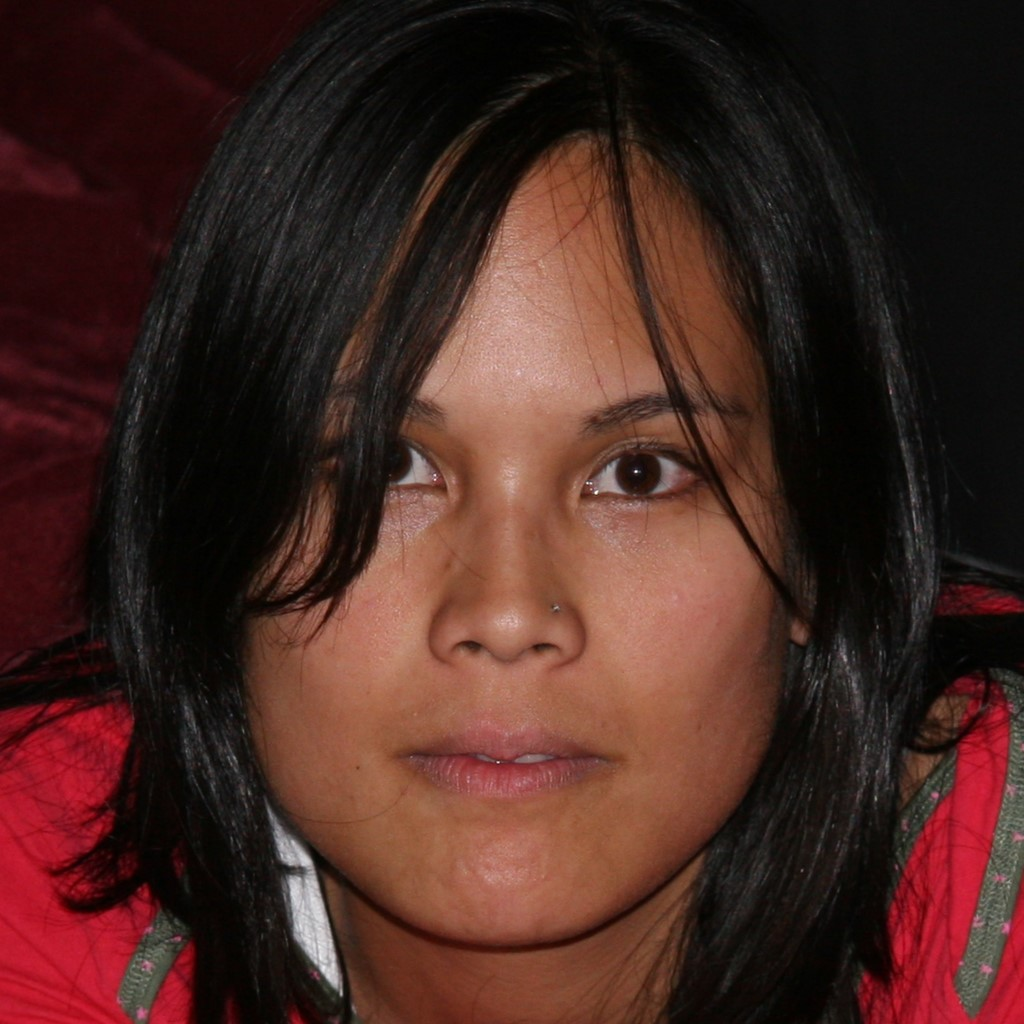sin_mascara: (197, 64, 843, 956)
